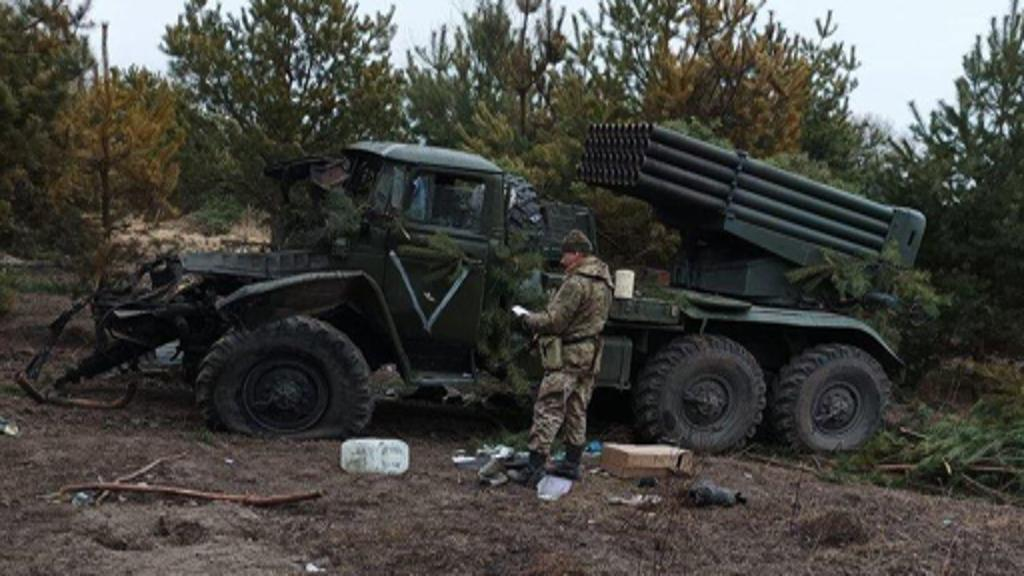MLRS: (96, 106, 928, 472)
